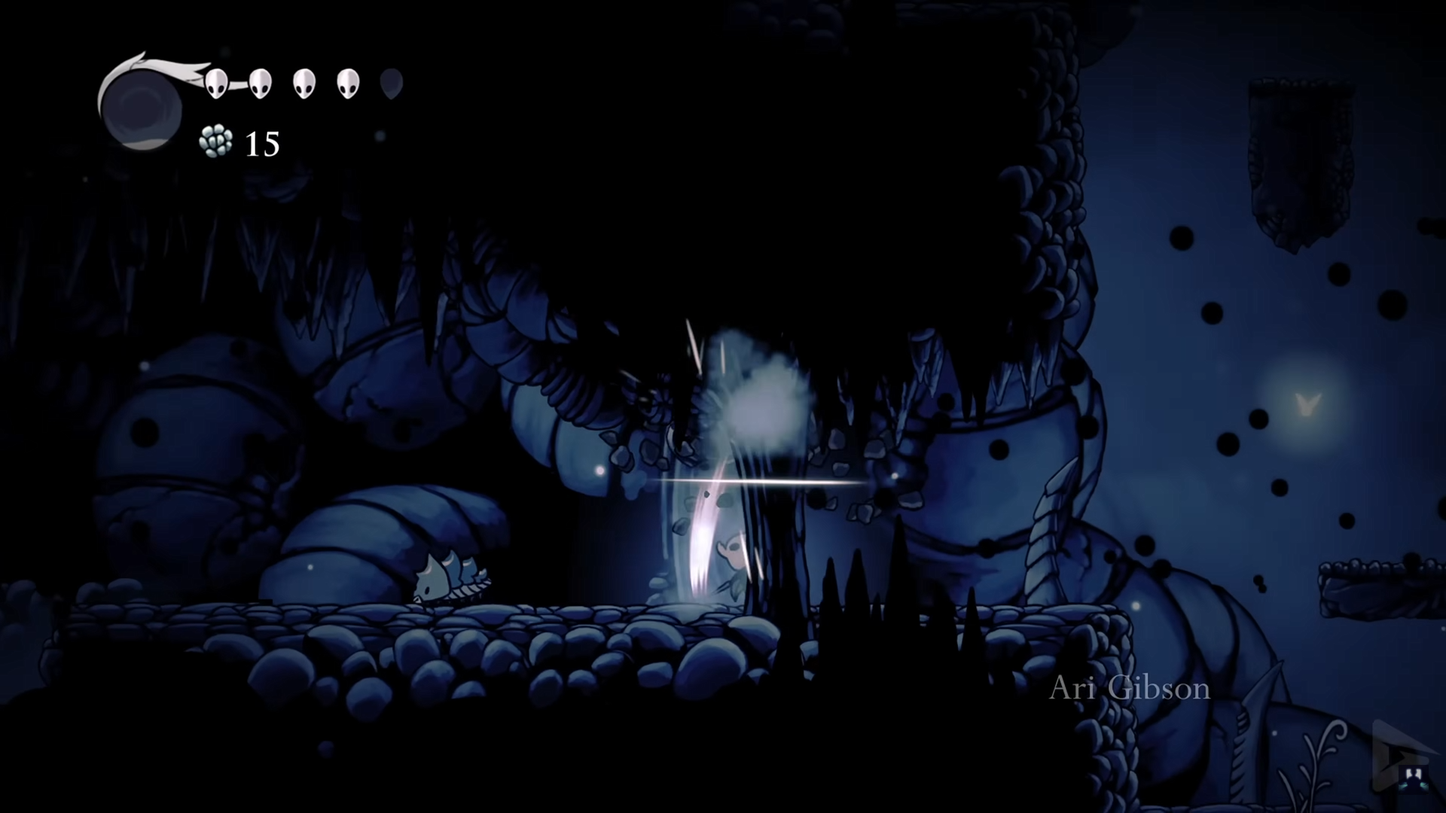HK: (707, 523, 771, 605)
